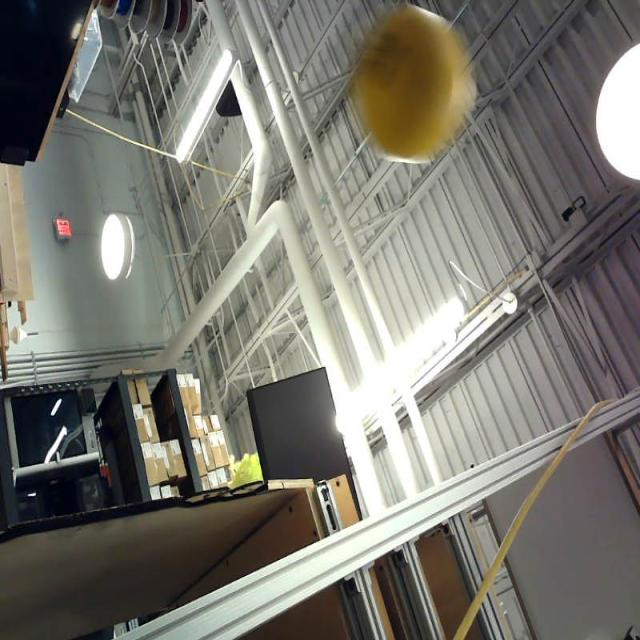Fuel: (362, 5, 456, 160)
